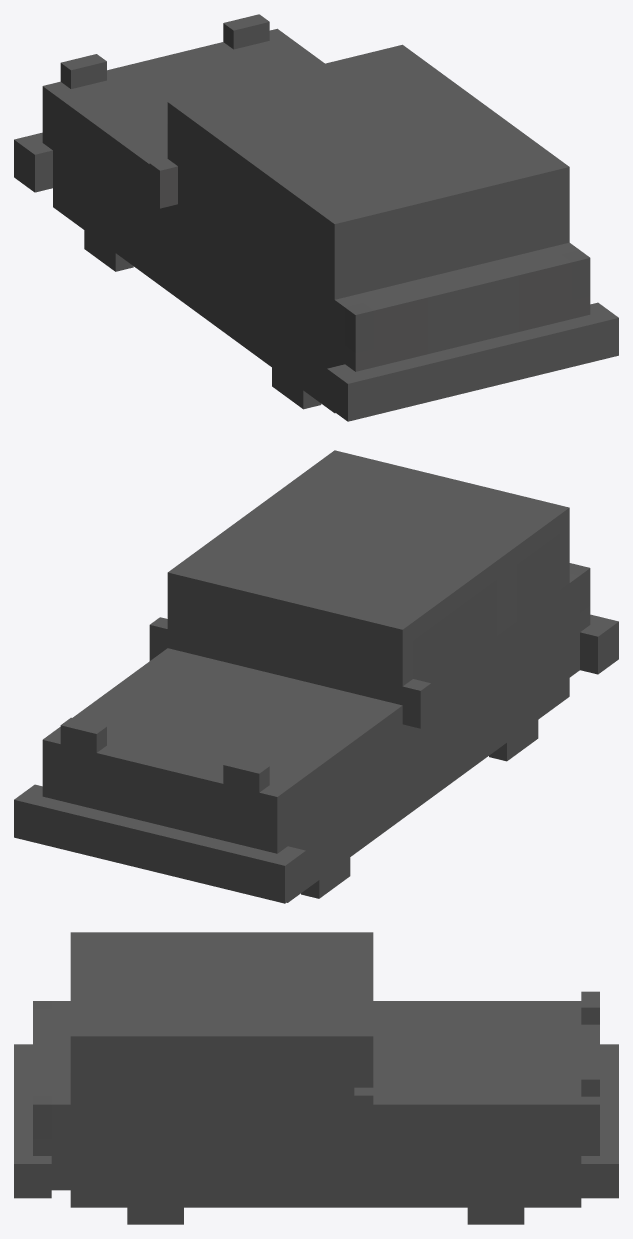
The model's file is veh_wagon3.obj.
3 views of the same model, one above another, from view 1: azimuth 30°, elevation 25°; view 2: azimuth 150°, elevation 25°; view 3: azimuth 270°, elevation 25° (orthographic). The views are drawn at different scales.
Bounding box in the file's own units: 15 × 11 × 32.
